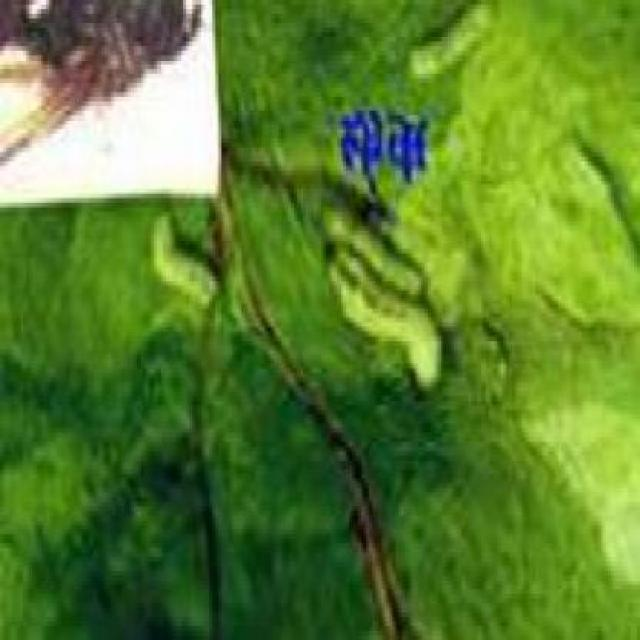whorl-maggot: (316, 186, 450, 397), (143, 202, 217, 336), (404, 0, 495, 98)
